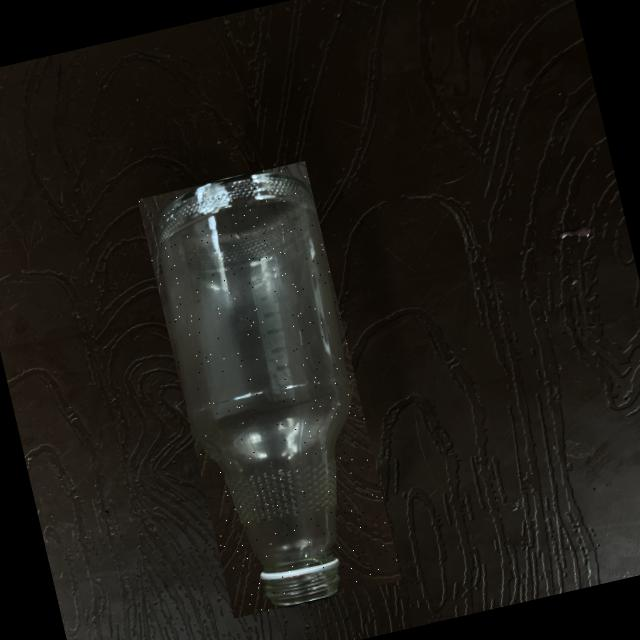Glass_Bottle: (156, 173, 350, 604)
